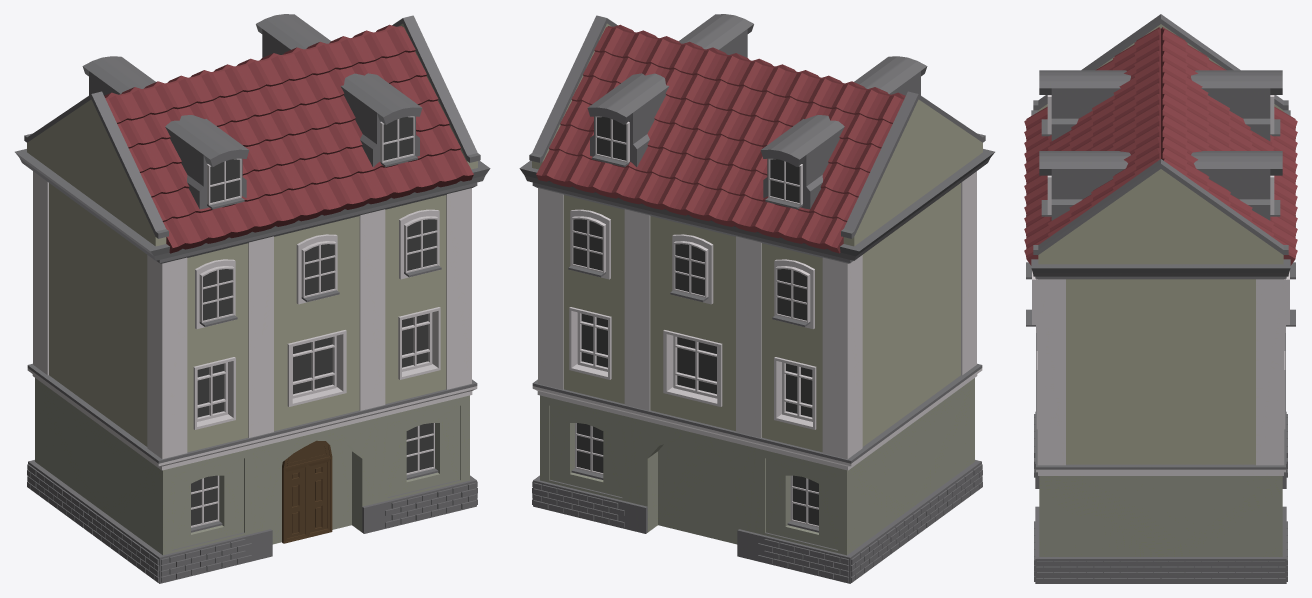
The model's file is it-townhouse-terracotta.glb.
3 renders of one model, left to right at view 1: azimuth 30°, elevation 25°; view 2: azimuth 150°, elevation 25°; view 3: azimuth 270°, elevation 25°, orthographic. The views are drawn at different scales.
Visible parts, largest first — view 1: Building1_Small; view 2: Building1_Small; view 3: Building1_Small.
Boxes of the visible parts, bbox=[...] form: Building1_Small: bbox=[15, 14, 490, 583]; Building1_Small: bbox=[519, 14, 994, 583]; Building1_Small: bbox=[1024, 14, 1297, 583].
Size of the model in its own units: 3.75 by 4.66 by 2.74.
Materials: 1 (1 with a texture image).
